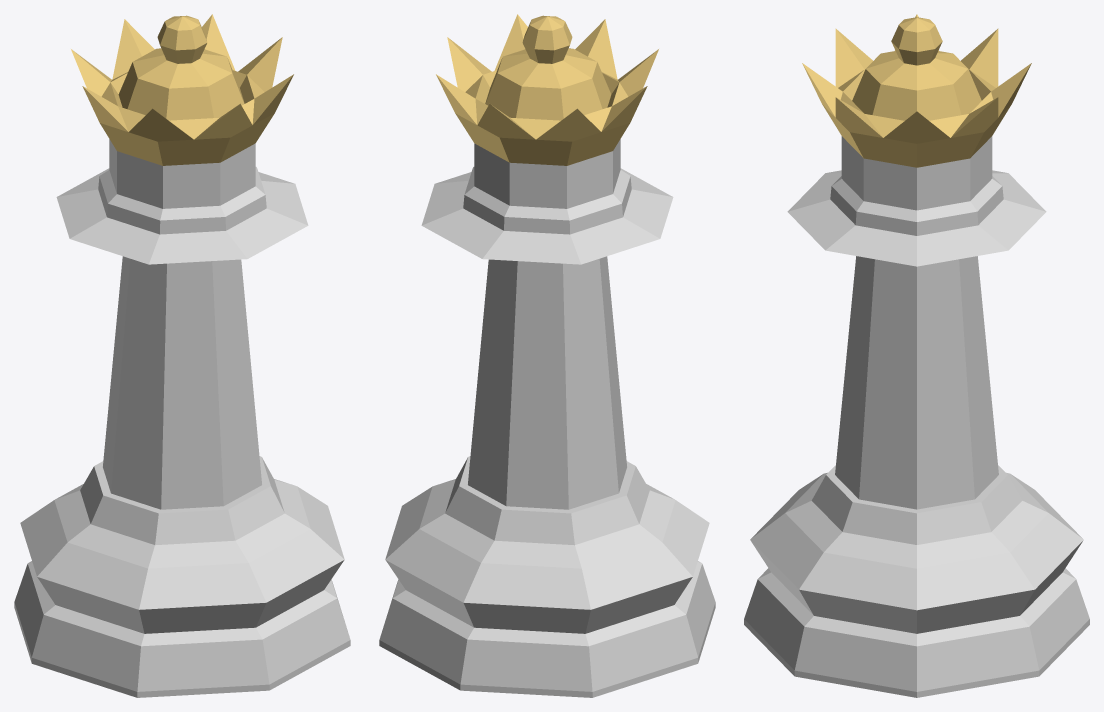
Rendered from gercek5_q_w.glb.
3 views of the same model, side by side, from view 1: azimuth 30°, elevation 25°; view 2: azimuth 150°, elevation 25°; view 3: azimuth 270°, elevation 25° (orthographic).
Parts seen in each view (by area): view 1: q_w; view 2: q_w; view 3: q_w.
Boxes of the visible parts, left/top/right/bottom form: q_w: left=14, top=14, right=350, bottom=697; q_w: left=379, top=14, right=715, bottom=697; q_w: left=744, top=14, right=1089, bottom=697.
Bounding box in the file's own units: 0.4649 × 0.9 × 0.4649.
